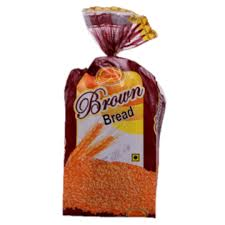bread: (65, 9, 161, 221)
